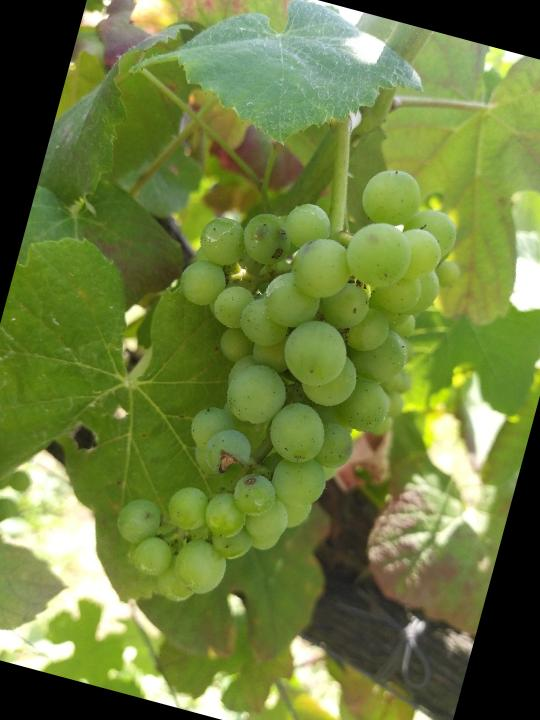grape: (98, 119, 488, 656)
